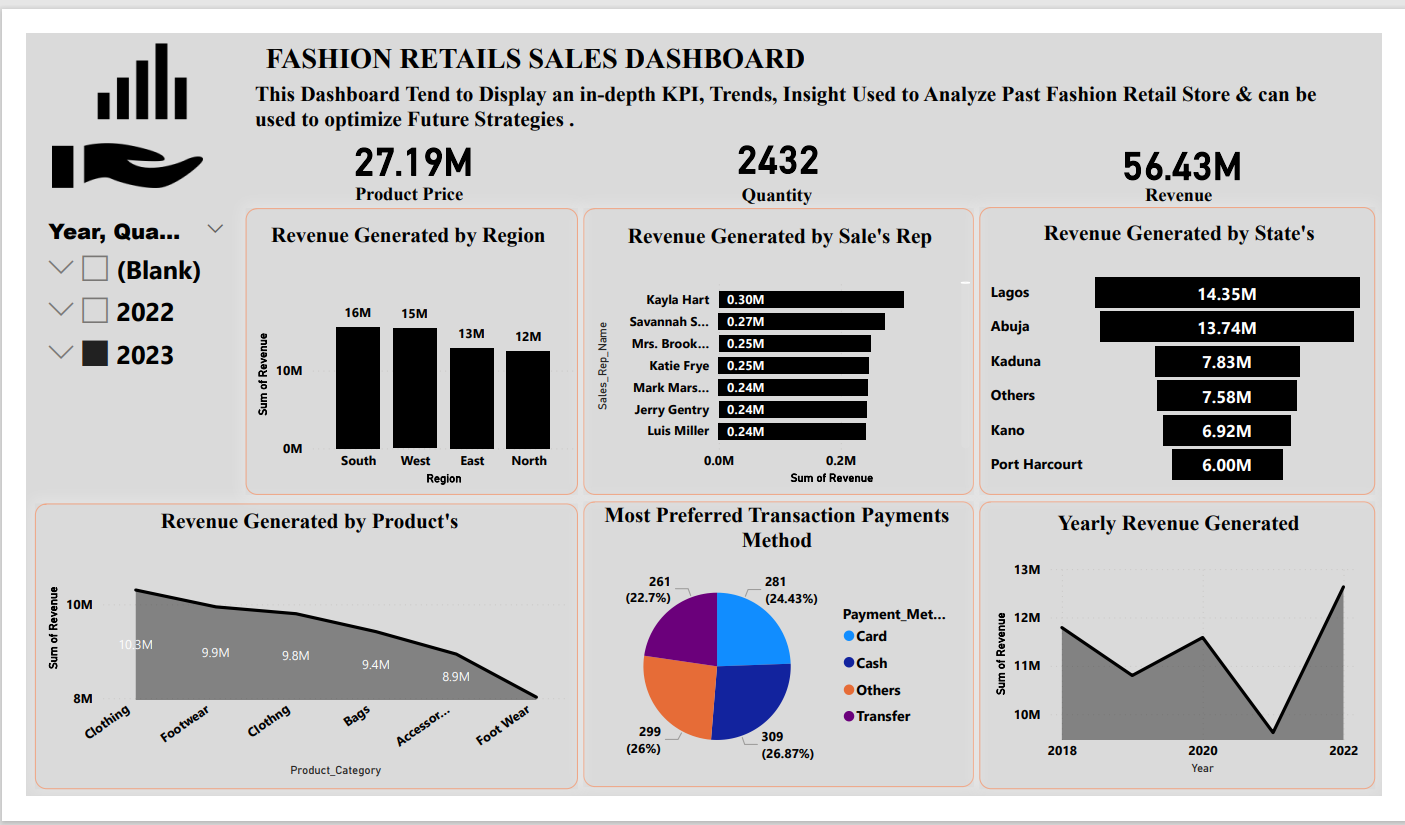

What the dashboard file says about the page in this screenshot:
{"tool":"powerbi","page":{"name":"Page 1","canvas":[1280,720],"ordinal":0},"visuals":[{"type":"shape","box":[526.2,442,369.2,270.4],"z":0},{"type":"shape","box":[8.1,443.7,513.3,270.4],"z":1000},{"type":"shape","box":[900.3,442,374,272],"z":2000},{"type":"shape","box":[526.2,165.2,369.2,270.4],"z":3000},{"type":"shape","box":[207.3,165.2,314.1,270.4],"z":4000},{"type":"shape","box":[900.3,163.5,374,272],"z":5000},{"type":"actionButton","box":[207.3,4.9,547.3,37.2],"z":6000},{"type":"actionButton","box":[953.7,443.7,268.8,37.2],"z":7000},{"type":"actionButton","box":[948.9,161.9,280.1,53.4],"z":8000},{"type":"actionButton","box":[226.4,162.8,270,55.6],"z":9000},{"type":"actionButton","box":[552.2,163.1,320,56.5],"z":10000},{"type":"actionButton","box":[212.1,38.9,1041.2,59.9],"z":11000},{"type":"actionButton","box":[35.6,430.7,463.1,58.3],"z":12000},{"type":"actionButton","box":[522.9,432.9,372.3,66.9],"z":13000},{"type":"card","fields":{"Values":["Merged & Cleaned up.Product_Price"]},"box":[270.4,73.3,190.6,89.6],"z":14000},{"type":"slicer","fields":{"Values":["Merged & Cleaned up.Transaction_Date.Variation.Date Hierarchy.Year","Merged & Cleaned up.Transaction_Date.Variation.Date Hierarchy.Quarter","Merged & Cleaned up.Transaction_Date.Variation.Date Hierarchy.Month","Merged & Cleaned up.Transaction_Date.Variation.Date Hierarchy.Day"]},"box":[8.1,166.8,191.1,265.6],"z":15000},{"type":"actionButton","box":[237.9,133.6,247.6,35.8],"z":16000},{"type":"actionButton","box":[604.4,133.9,209.2,37.6],"z":17000},{"type":"actionButton","box":[991.4,133.9,194.5,37.6],"z":18000},{"type":"card","fields":{"Values":["Merged & Cleaned up.Quantity"]},"box":[614.9,71.1,190.3,89.9],"z":19000},{"type":"card","fields":{"Values":["Merged & Cleaned up.Revenue"]},"box":[995.6,77.4,190.3,89.9],"z":20000},{"type":"clusteredColumnChart","fields":{"Category":["Merged & Cleaned up.Region"],"Y":["Merged & Cleaned up.Revenue"]},"box":[213.3,238.4,309.5,192.4],"z":21000},{"type":"barChart","fields":{"Category":["Merged & Cleaned up.Sales_Rep_Name"],"Y":["Merged & Cleaned up.Revenue"]},"box":[534.4,221.6,361.7,208.5],"z":22000},{"type":"pieChart","fields":{"Series":["Merged & Cleaned up.Payment_Method"],"Y":["Merged & Cleaned up.Transaction_ID"]},"box":[529.5,492,361.7,211.8],"z":23000},{"type":"funnel","fields":{"Category":["Merged & Cleaned up.State"],"Y":["Merged & Cleaned up.Revenue"]},"box":[905.8,221.6,363.3,208.5],"z":24000},{"type":"stackedAreaChart","fields":{"Category":["Merged & Cleaned up.Hire_Date.Variation.Date Hierarchy.Year","Merged & Cleaned up.Hire_Date.Variation.Date Hierarchy.Quarter","Merged & Cleaned up.Hire_Date.Variation.Date Hierarchy.Month","Merged & Cleaned up.Hire_Date.Variation.Date Hierarchy.Day","Merged & Cleaned up.Sales_Rep_Name"],"Y":["Merged & Cleaned up.Revenue"]},"box":[909.8,491.5,353.5,213.3],"z":25000},{"type":"stackedAreaChart","fields":{"Category":["Merged & Cleaned up.Product_Category"],"Y":["Merged & Cleaned up.Revenue"]},"box":[14.6,481,502,225.9],"z":26000},{"type":"image","box":[0,0,190.3,150.6],"z":27000}]}

Visuals, with their boxes on the page's 1280x720 design canvas (x1, y1, x2, y2). These are canvas units, not pixel positions in the 1405x825 screenshot, which may show the page scaled, cropped or inside an application window:
shape: detection(526, 442, 895, 712)
shape: detection(8, 444, 521, 714)
shape: detection(900, 442, 1274, 714)
shape: detection(526, 165, 895, 436)
shape: detection(207, 165, 521, 436)
shape: detection(900, 164, 1274, 436)
actionButton: detection(207, 5, 755, 42)
actionButton: detection(954, 444, 1222, 481)
actionButton: detection(949, 162, 1229, 215)
actionButton: detection(226, 163, 496, 218)
actionButton: detection(552, 163, 872, 220)
actionButton: detection(212, 39, 1253, 99)
actionButton: detection(36, 431, 499, 489)
actionButton: detection(523, 433, 895, 500)
card - Merged & Cleaned up.Product_Price: detection(270, 73, 461, 163)
slicer - Merged & Cleaned up.Transaction_Date.Variation.Date Hierarchy.Year x Merged & Cleaned up.Transaction_Date.Variation.Date Hierarchy.Quarter: detection(8, 167, 199, 432)
actionButton: detection(238, 134, 486, 169)
actionButton: detection(604, 134, 814, 172)
actionButton: detection(991, 134, 1186, 172)
card - Merged & Cleaned up.Quantity: detection(615, 71, 805, 161)
card - Merged & Cleaned up.Revenue: detection(996, 77, 1186, 167)
clusteredColumnChart - Merged & Cleaned up.Region x Merged & Cleaned up.Revenue: detection(213, 238, 523, 431)
barChart - Merged & Cleaned up.Sales_Rep_Name x Merged & Cleaned up.Revenue: detection(534, 222, 896, 430)
pieChart - Merged & Cleaned up.Payment_Method x Merged & Cleaned up.Transaction_ID: detection(530, 492, 891, 704)
funnel - Merged & Cleaned up.State x Merged & Cleaned up.Revenue: detection(906, 222, 1269, 430)
stackedAreaChart - Merged & Cleaned up.Hire_Date.Variation.Date Hierarchy.Year x Merged & Cleaned up.Hire_Date.Variation.Date Hierarchy.Quarter: detection(910, 492, 1263, 705)
stackedAreaChart - Merged & Cleaned up.Product_Category x Merged & Cleaned up.Revenue: detection(15, 481, 517, 707)
image: detection(0, 0, 190, 151)
